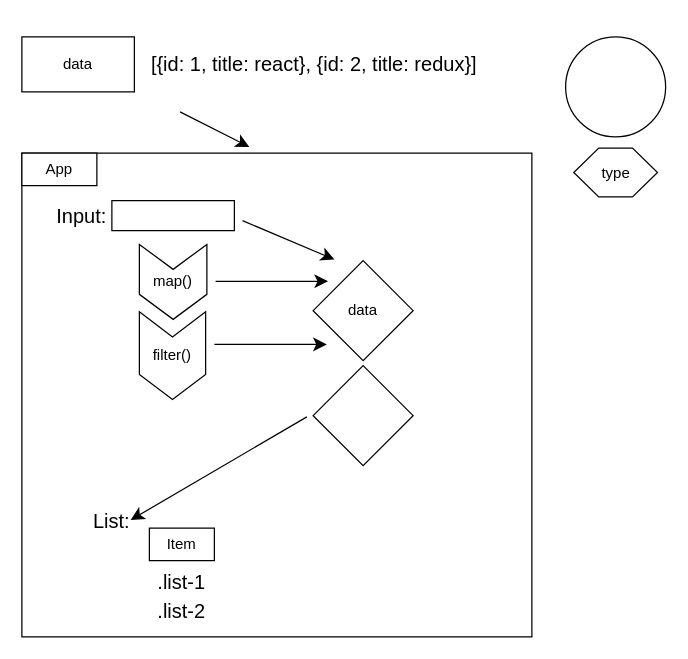
This 688x659 diagram has some shape labels left out. Each missing label, with the centre of its shape:
list: the point at 172,215
typeScript: the point at 615,86
useState: the point at 362,415
